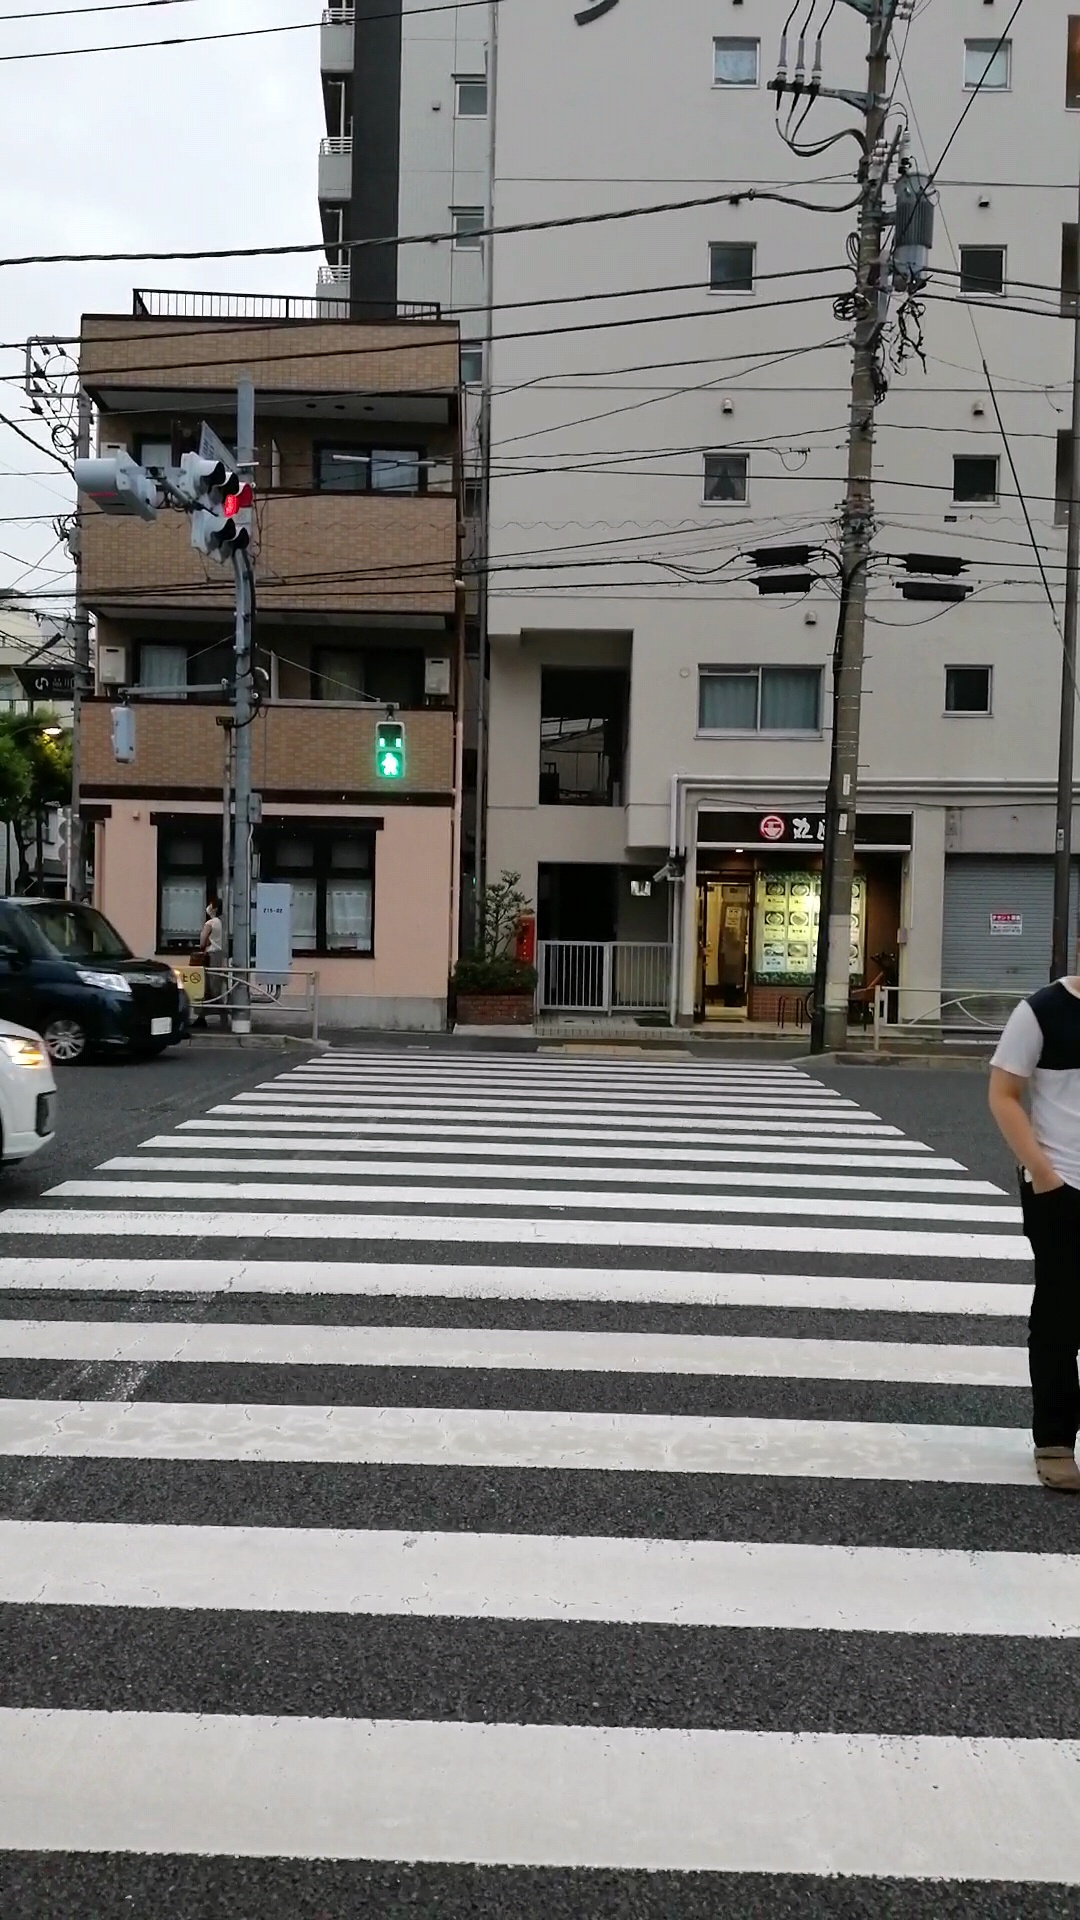green: (373, 721, 407, 778)
